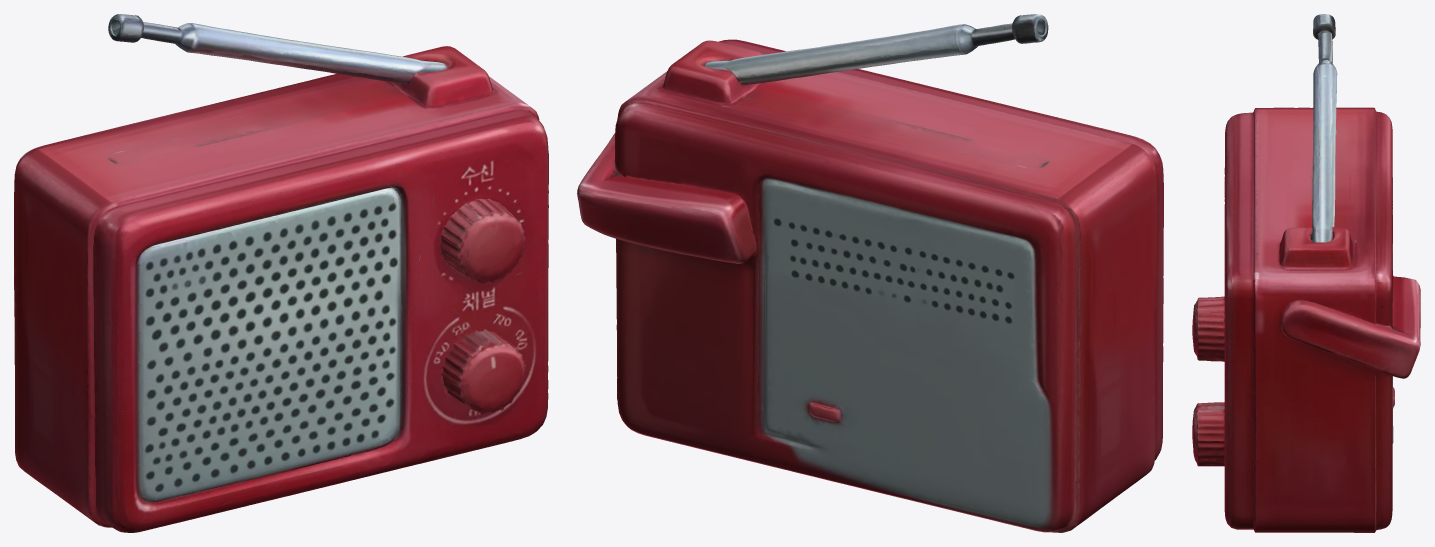
The model's file is radio-fixed.glb.
3 views of the same model, side by side, from view 1: azimuth 30°, elevation 25°; view 2: azimuth 150°, elevation 25°; view 3: azimuth 270°, elevation 25° (orthographic). The views are drawn at different scales.
Visible parts, largest first — view 1: geometry_0; view 2: geometry_0; view 3: geometry_0.
Part boxes in pixels (x1,y1,x2,y2): geometry_0: [14, 14, 548, 532]; geometry_0: [577, 14, 1163, 532]; geometry_0: [1192, 14, 1420, 532].
Size of the model in its own units: 0.22 by 0.2109 by 0.1151.
Materials: 1 (1 with a texture image).
